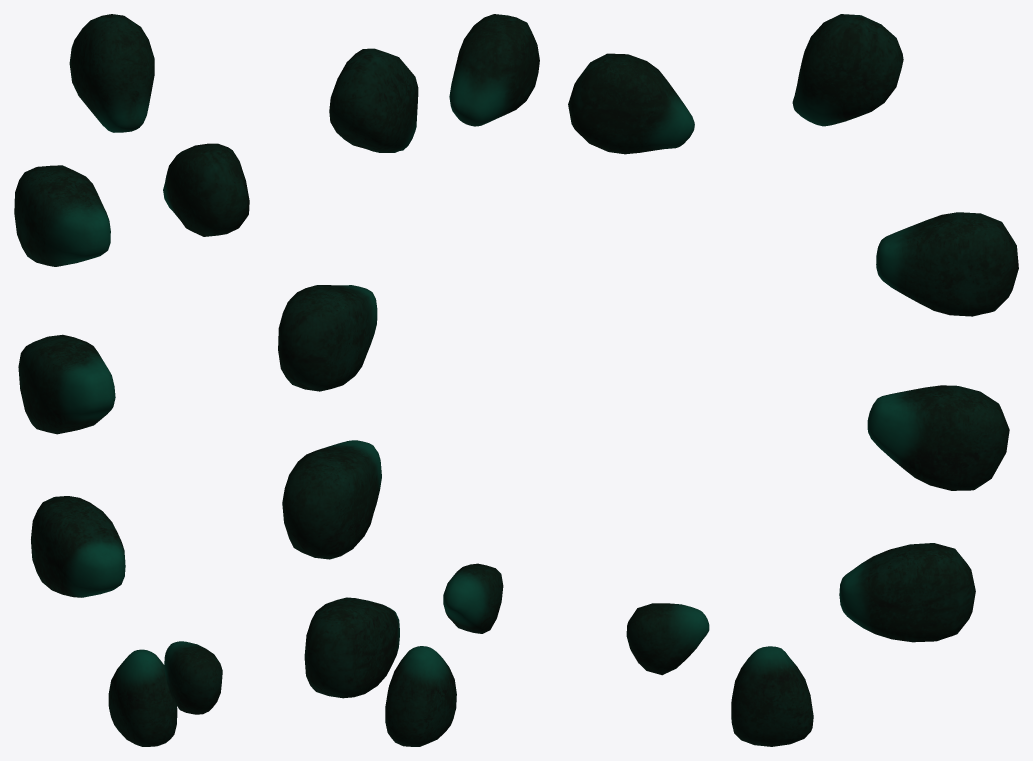
The model's file is Piramide_Completo.glb.
3 views of the same model, side by side, from view 1: azimuth 30°, elevation 25°; view 2: azimuth 150°, elevation 25°; view 3: azimuth 270°, elevation 25° (orthographic). The views are drawn at different scales.
Visible parts, largest first — view 1: PIRAMIDES_COMPLETO; view 2: PIRAMIDES_COMPLETO; view 3: PIRAMIDES_COMPLETO.
Boxes of the visible parts, <box> form: PIRAMIDES_COMPLETO: <box>14,14,249,746</box>; PIRAMIDES_COMPLETO: <box>278,14,539,746</box>; PIRAMIDES_COMPLETO: <box>568,14,1018,746</box>.
Size of the model in its own units: 0.2248 by 2.1 by 1.18.
1 material, 1 textured.
